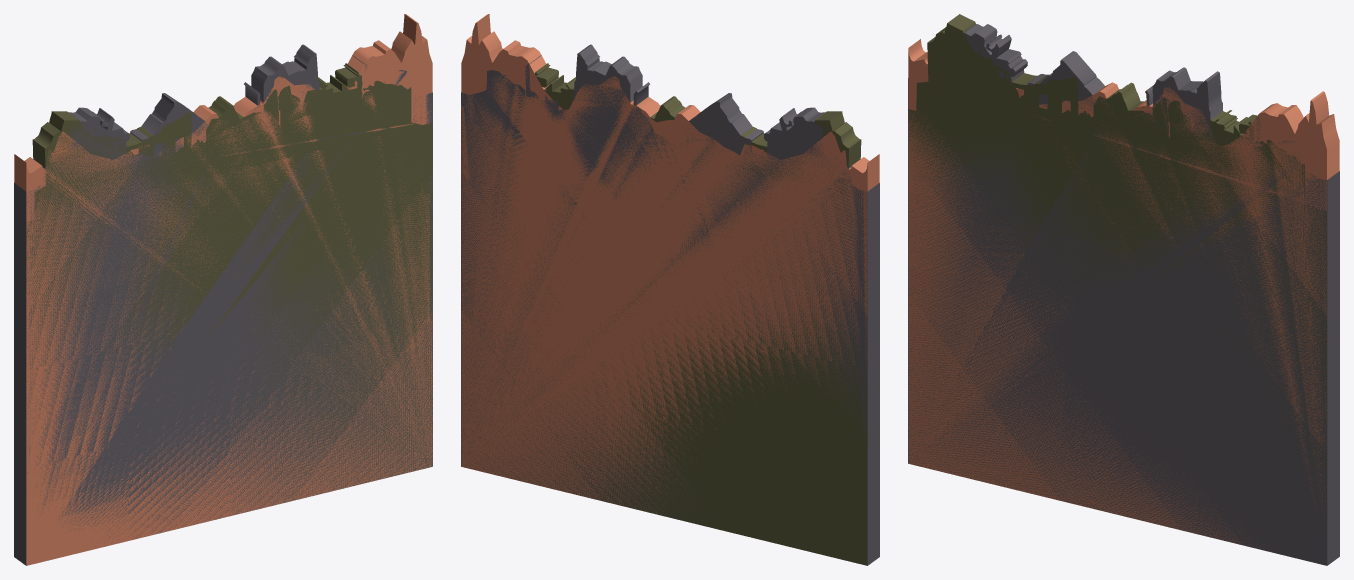
File: ParallaxBackground.FBX
3 renders of one model, left to right at view 1: azimuth 30°, elevation 25°; view 2: azimuth 150°, elevation 25°; view 3: azimuth 330°, elevation 25°, orthographic. The views are drawn at different scales.
Visible parts, largest first — view 1: Ruin, Ruin2, Hill; view 2: Hill, Ruin, Ruin2; view 3: Ruin, Hill, Ruin2.
Boxes of the visible parts, x1,y1,x2,y2 form: Ruin: (14, 44, 432, 565); Ruin2: (26, 63, 432, 504); Hill: (14, 14, 432, 565); Hill: (461, 14, 879, 513); Ruin: (461, 44, 879, 565); Ruin2: (465, 63, 867, 565); Ruin: (908, 24, 1339, 565); Hill: (908, 39, 1339, 548); Ruin2: (908, 14, 1326, 526).
Bounding box in the file's own units: 1921 × 2022 × 100.
